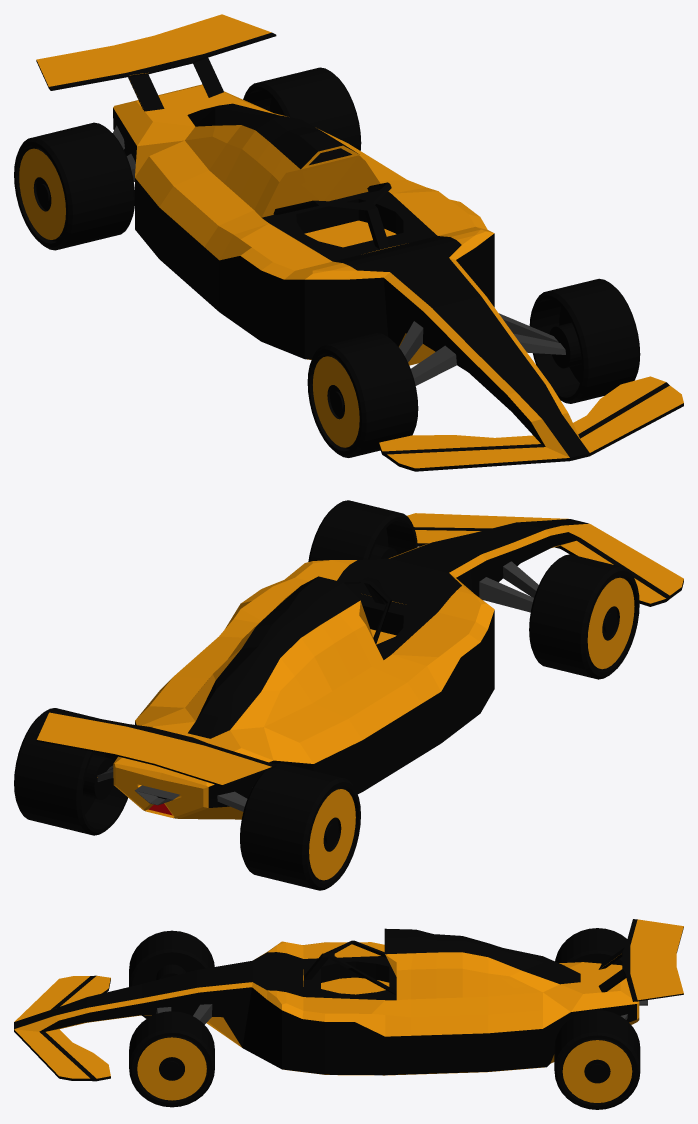
File: curF1.fbx
3 renders of one model, top to bottom at view 1: azimuth 30°, elevation 25°; view 2: azimuth 150°, elevation 25°; view 3: azimuth 270°, elevation 25°, orthographic. The views are drawn at different scales.
Visible parts, largest first — view 1: Cube, WheelRB, WheelRF, WheelLF, WheelLB; view 2: Cube, WheelRB, WheelRF, WheelLB, WheelLF; view 3: Cube, WheelLB, WheelLF, WheelRF, WheelRB.
Boxes of the visible parts, x1=… form: Cube: x1=36, y1=14, x2=683, y2=471; WheelRB: x1=14, y1=122, x2=134, y2=250; WheelRF: x1=307, y1=333, x2=418, y2=457; WheelLF: x1=529, y1=278, x2=640, y2=403; WheelLB: x1=243, y1=67, x2=361, y2=150; Cube: x1=36, y1=513, x2=683, y2=819; WheelRB: x1=240, y1=763, x2=360, y2=890; WheelRF: x1=529, y1=554, x2=639, y2=679; WheelLB: x1=14, y1=708, x2=127, y2=835; WheelLF: x1=308, y1=500, x2=417, y2=561; Cube: x1=14, y1=919, x2=683, y2=1081; WheelLB: x1=554, y1=1010, x2=640, y2=1109; WheelLF: x1=129, y1=1011, x2=214, y2=1107; WheelRF: x1=129, y1=930, x2=214, y2=1018; WheelRB: x1=555, y1=928, x2=627, y2=965.
Bounding box in the file's own units: 408 × 223 × 1087.
